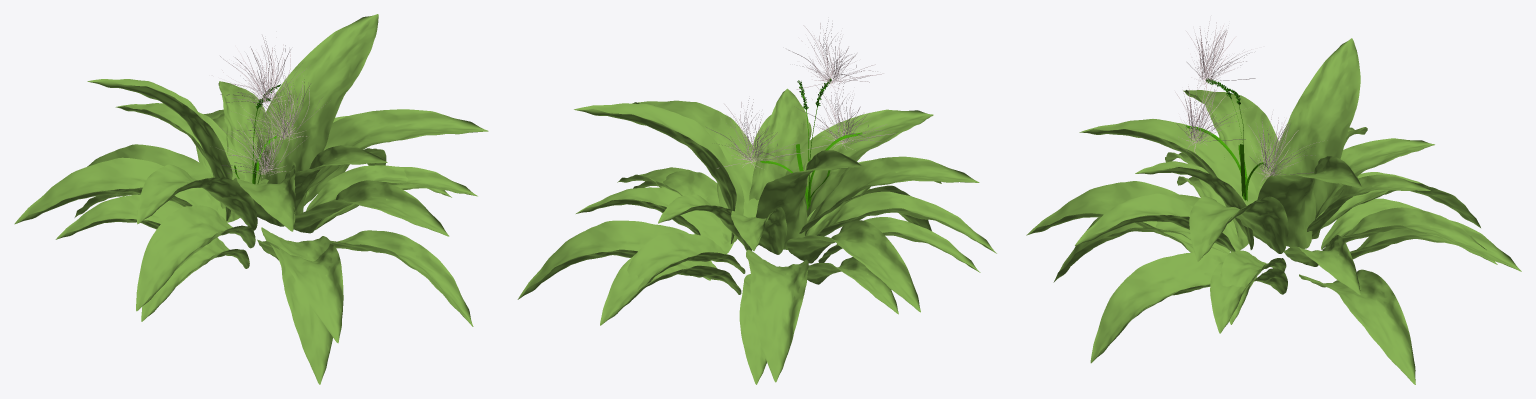
File: lirios araña.glb
3 renders of one model, left to right at view 1: azimuth 30°, elevation 25°; view 2: azimuth 150°, elevation 25°; view 3: azimuth 270°, elevation 25°, orthographic. The views are drawn at different scales.
Visible parts, largest first — view 1: GS type D weed 02, GS Dryland thin 01.002, GS Dryland thin 01.001, GS Dryland thin 01, GS Dryland meadow flower 01; view 2: GS type D weed 02, GS Dryland thin 01, GS Dryland thin 01.002, GS Dryland thin 01.001, GS Dryland meadow flower 01; view 3: GS type D weed 02, GS Dryland thin 01.002, GS Dryland thin 01.001, GS Dryland thin 01, GS Dryland meadow flower 01.
Boxes of the visible parts, x1,y1,x2,y2 form: GS type D weed 02: (14, 14, 488, 384); GS Dryland thin 01.002: (220, 35, 306, 106); GS Dryland thin 01.001: (219, 106, 304, 177); GS Dryland thin 01: (237, 71, 325, 140); GS Dryland meadow flower 01: (234, 84, 280, 184); GS type D weed 02: (517, 88, 996, 384); GS Dryland thin 01: (706, 98, 803, 168); GS Dryland thin 01.002: (788, 21, 883, 89); GS Dryland thin 01.001: (801, 80, 895, 149); GS Dryland meadow flower 01: (760, 78, 862, 210); GS type D weed 02: (1026, 38, 1521, 384); GS Dryland thin 01.002: (1186, 21, 1255, 92); GS Dryland thin 01.001: (1175, 77, 1245, 152); GS Dryland thin 01: (1248, 114, 1319, 181); GS Dryland meadow flower 01: (1186, 78, 1270, 201).
Bounding box in the file's own units: 3.04 × 2.11 × 3.39.
